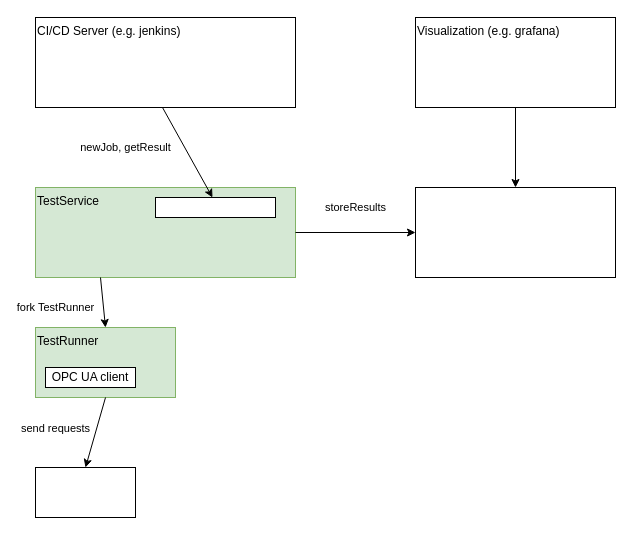
Some shapes in this 634 by 535 pixel diagram are drawn without their labels. The centre of each missing label's shape, as x and y in pixels:
Http/Rest Interface: (x=215, y=207)
OPC UA Server / Device under test: (x=85, y=492)
Persistence (e.g. mySql, influx): (x=515, y=232)
